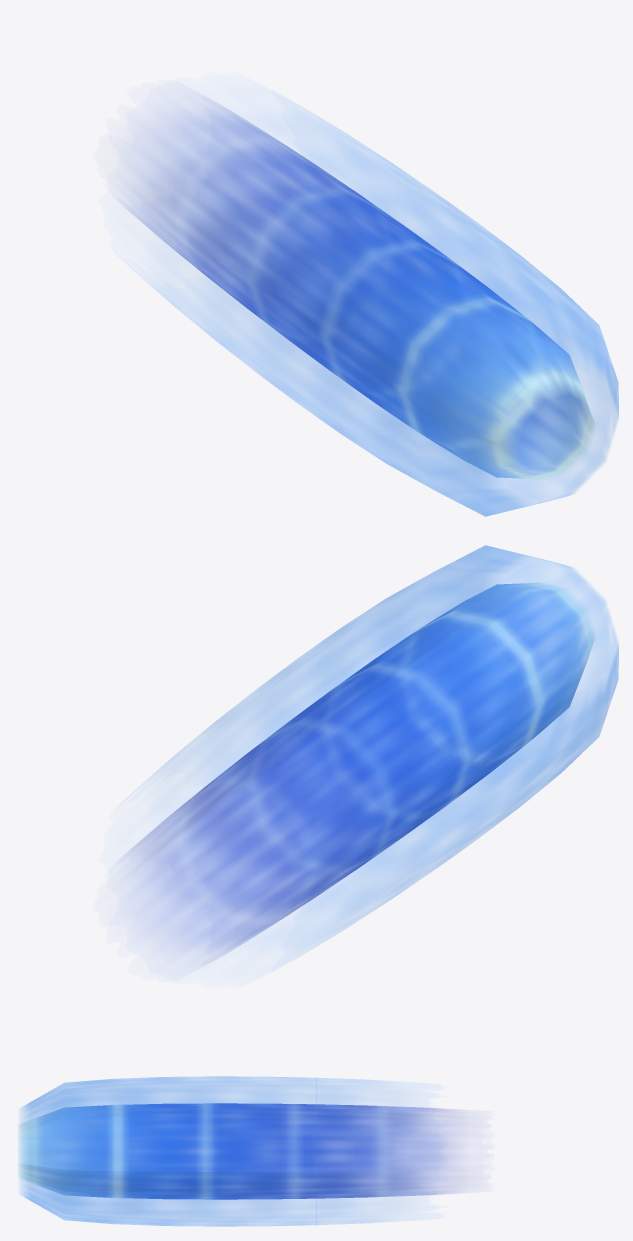
File: cryo.glb
3 views of the same model, one above another, from view 1: azimuth 30°, elevation 25°; view 2: azimuth 150°, elevation 25°; view 3: azimuth 270°, elevation 25° (orthographic). The views are drawn at different scales.
Visible parts, largest first — view 1: cryo | static fallback; view 2: cryo | static fallback; view 3: cryo | static fallback.
Boxes of the visible parts, box(x1,y1,x2,y2) form: cryo | static fallback: box(124, 97, 618, 516); cryo | static fallback: box(124, 545, 618, 964); cryo | static fallback: box(18, 1076, 462, 1226).
Bounding box in the file's own units: 0.7508 × 0.714 × 3.
Materials: 1 (1 with a texture image).
